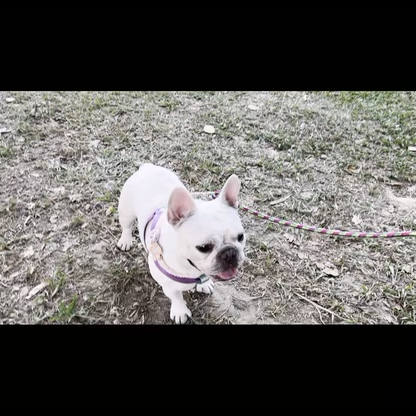bulldog: (112, 159, 250, 322)
